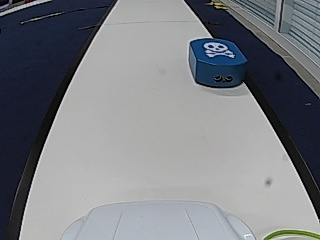danger: (203, 40, 233, 58)
